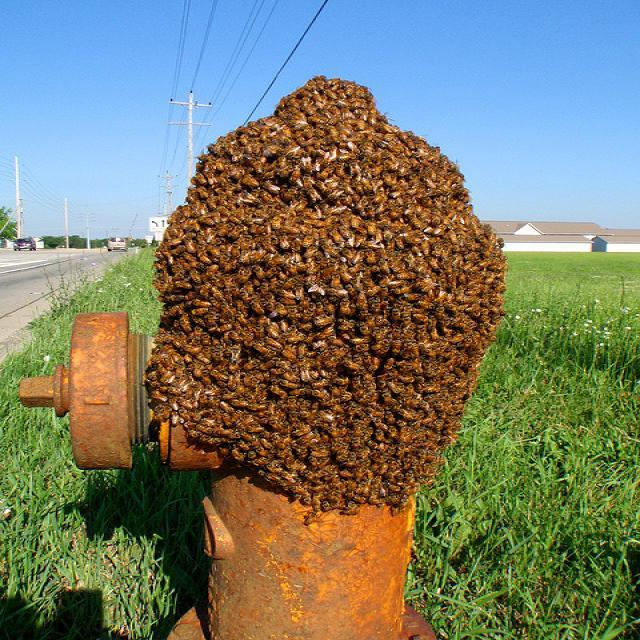fire_hydrant: (150, 77, 506, 510), (16, 306, 436, 640)
